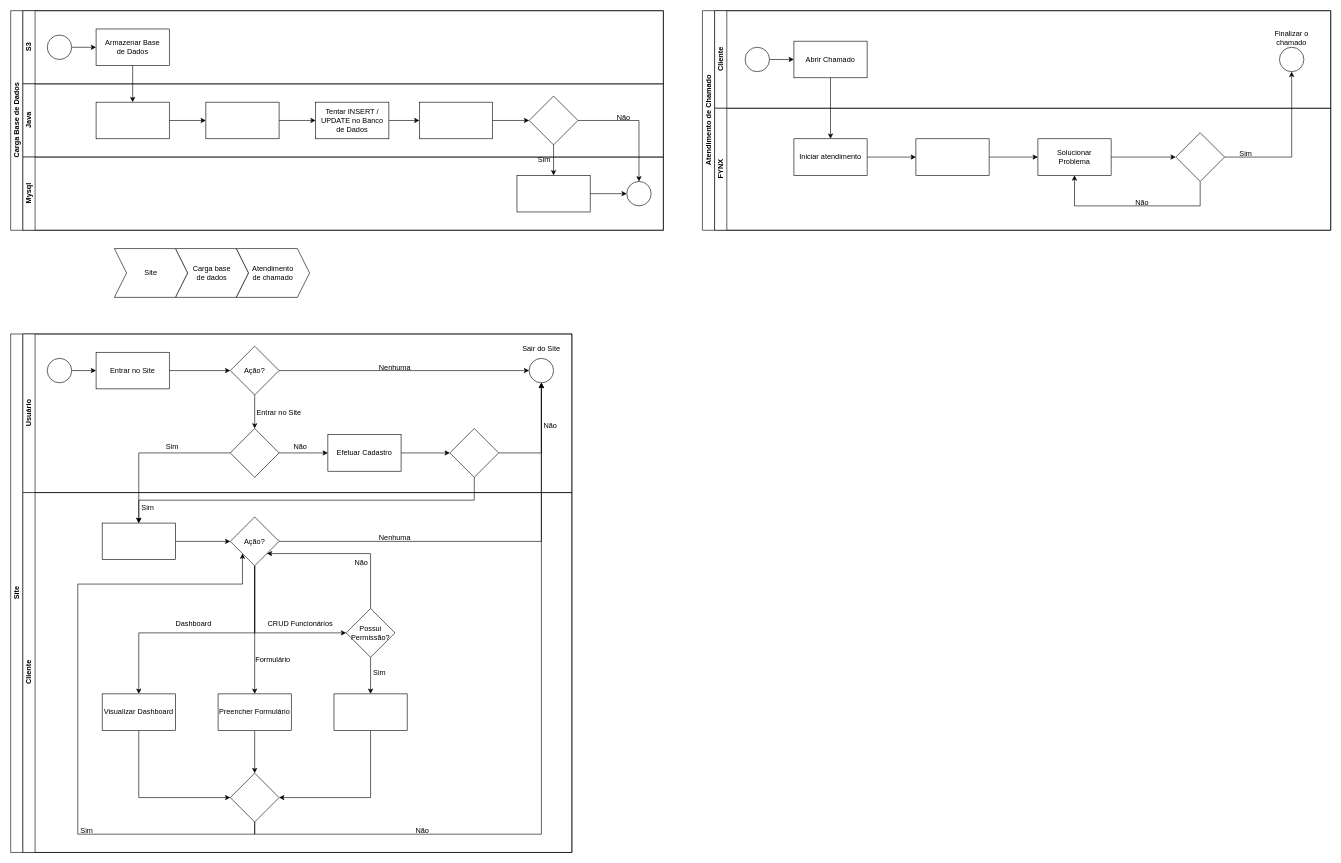
Image size: 1341x863. Some labels were removed from this diagram. Each missing label, with the centre of its shape:
"Acessar CRUD Funcionários" goes at pixel 370 711.
"Atualizar Tabela de Dados" goes at pixel 553 193.
"Atualizar Tabela Log" goes at pixel 456 120.
"Coletar Dados do Arquivo XLMS / XLS" goes at pixel 132 120.
"Cotinuar?" goes at pixel 254 797.
"Fazer Login" goes at pixel 138 541.
"Identificar Problema" goes at pixel 952 156.
"Já Possui Cadastro?" goes at pixel 254 452.
"Login?" goes at pixel 474 452.
"Resolveu o problema?" goes at pixel 1200 156.
"Teve sucesso?" goes at pixel 553 120.
"Tratar Dados" goes at pixel 242 120.
